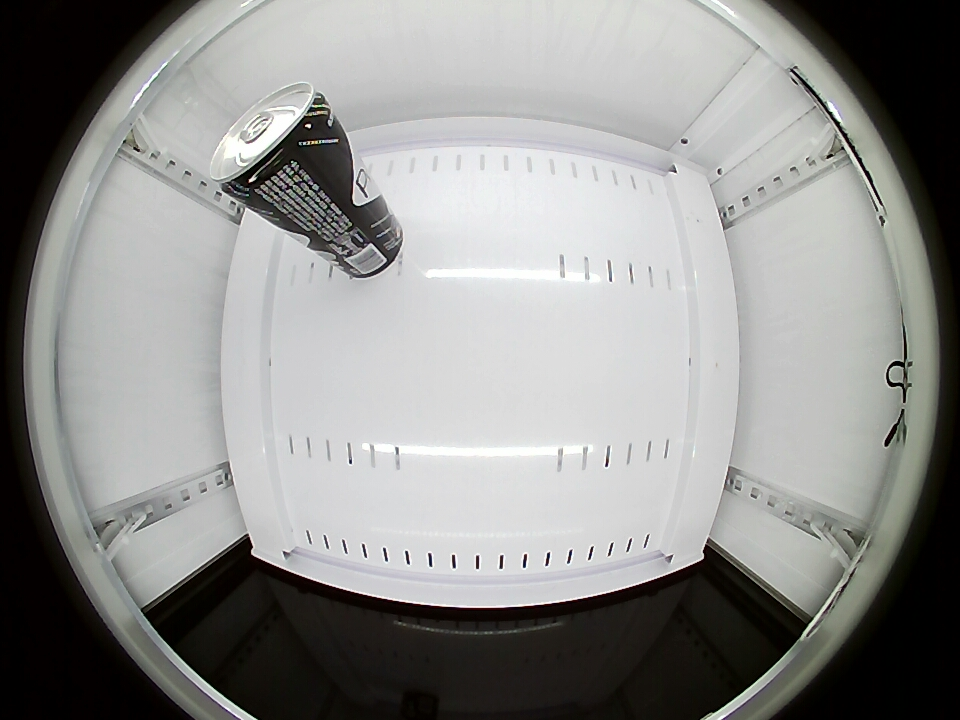qingdaowangzi-1: (210, 81, 337, 205)
